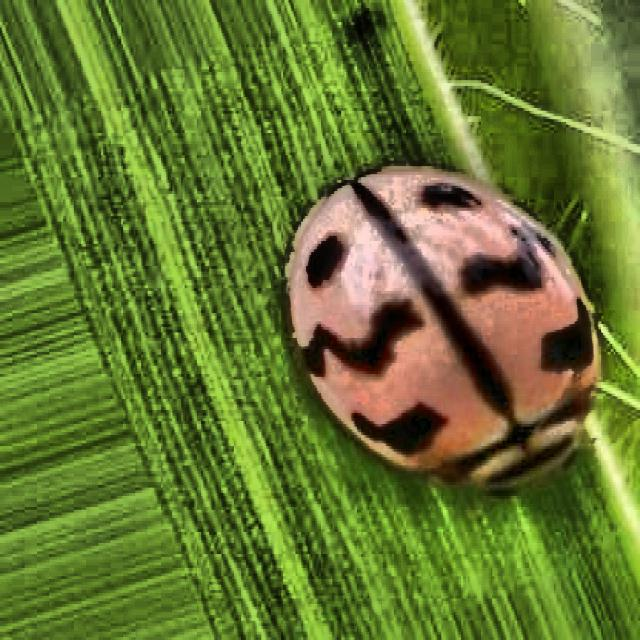Asian-Lady-beetle: (261, 0, 640, 640)
